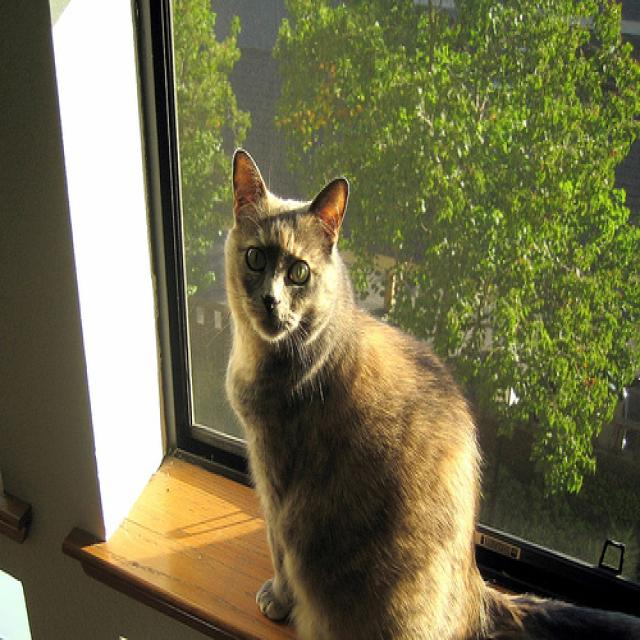cat: (220, 141, 640, 639)
